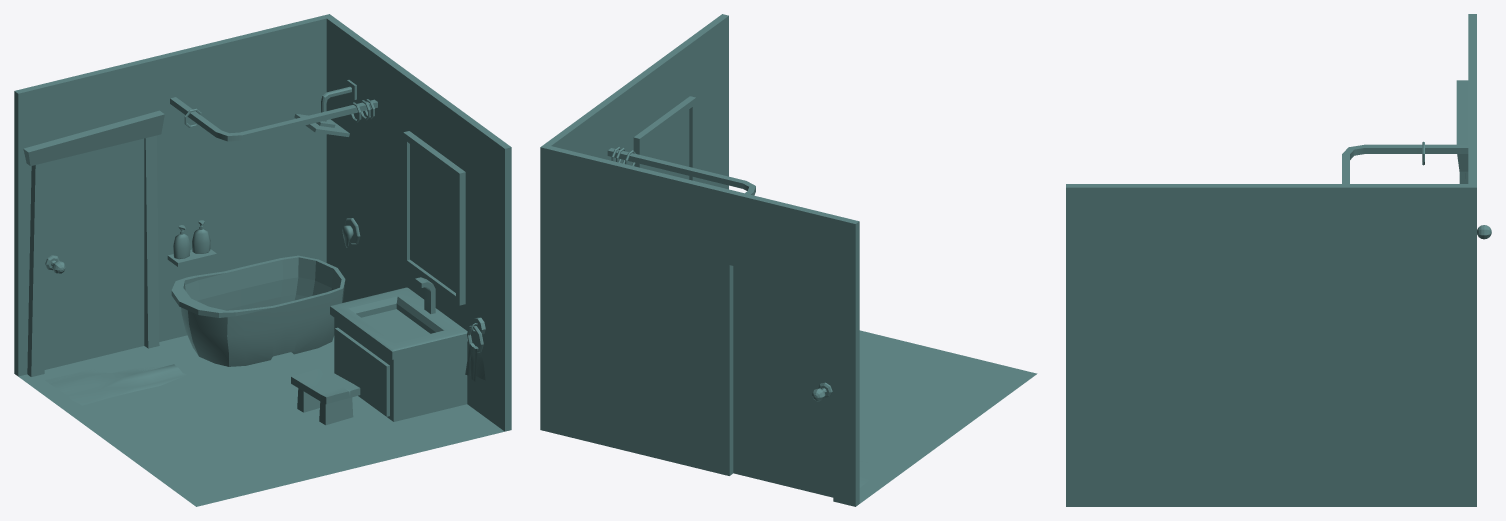
File: bathroom.fbx
3 renders of one model, left to right at view 1: azimuth 30°, elevation 25°; view 2: azimuth 150°, elevation 25°; view 3: azimuth 270°, elevation 25°, orthographic. The views are drawn at different scales.
Visible parts, largest first — view 1: room, door, bathtub, pasted__sink, mirror, polySurface14, polySurface13, mat, pasted__pCube19, pasted__door_right, pasted__shelf1, pasted__door_left (+1 smaller); view 2: room, door, polySurface14, mirror, polySurface13, pasted__pCube19; view 3: room, pasted__pCube19, polySurface13.
Boxes of the visible parts, x1,y1,x2,y2 form: room: (14,14,511,506); door: (44,138,144,369); bathtub: (171,255,345,366); pasted__sink: (330,287,467,421); mirror: (403,131,465,305); polySurface14: (27,135,159,376); polySurface13: (23,110,164,166); mat: (45,364,187,405); pasted__pCube19: (170,97,377,141); pasted__door_right: (360,346,389,416); pasted__shelf1: (291,367,360,404); pasted__door_left: (334,327,363,397); room: (540,14,1037,506); door: (733,266,833,497); polySurface14: (718,262,846,504); mirror: (633,96,695,181); polySurface13: (714,241,850,293); pasted__pCube19: (607,148,755,195); room: (1066,14,1476,506); pasted__pCube19: (1342,144,1468,183); polySurface13: (1456,80,1468,171).
Bounding box in the file's own units: 140 × 120 × 145.
